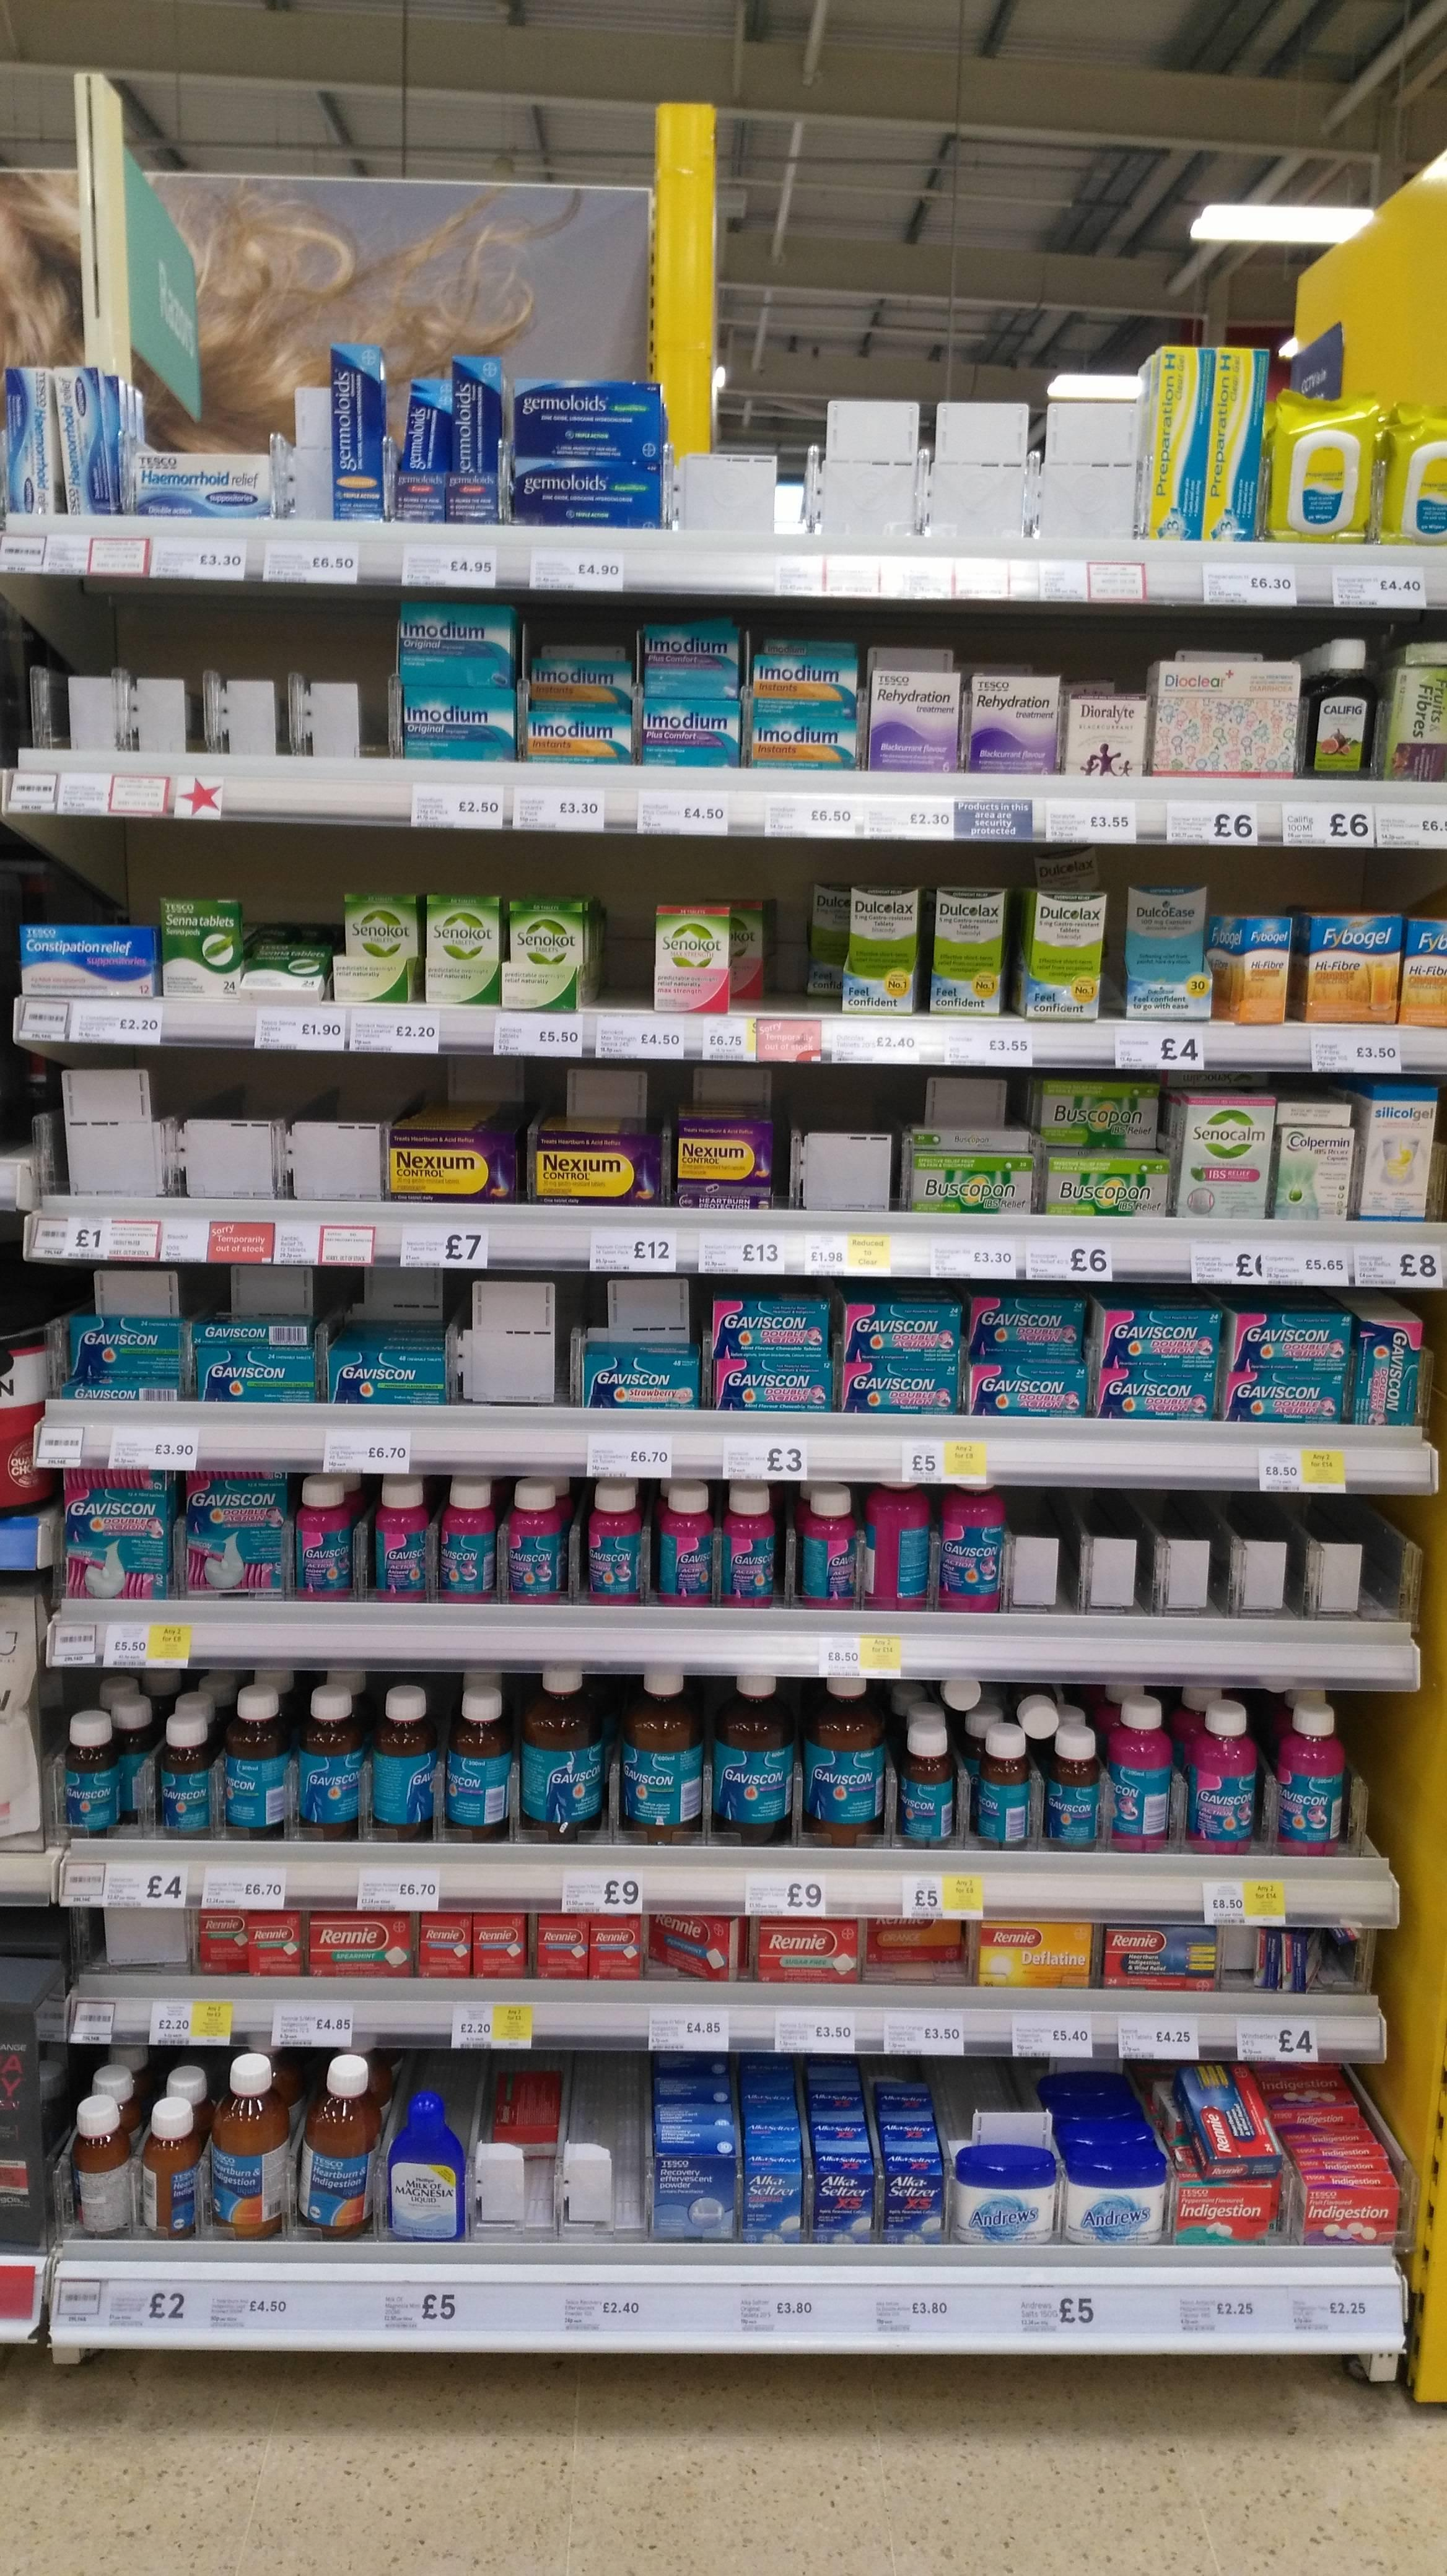empty: (676, 403, 1143, 540), (67, 1067, 387, 1194), (1015, 1516, 1380, 1615), (53, 651, 377, 757), (455, 1279, 564, 1410), (792, 1102, 897, 1212), (573, 2070, 644, 2227), (600, 890, 653, 1010), (80, 1911, 182, 1971)
misalignment: (653, 890, 794, 1016), (794, 883, 922, 1012), (67, 1695, 152, 1838), (1236, 1920, 1369, 2003), (234, 932, 329, 1007), (492, 2051, 563, 2150), (642, 1918, 745, 1983)
